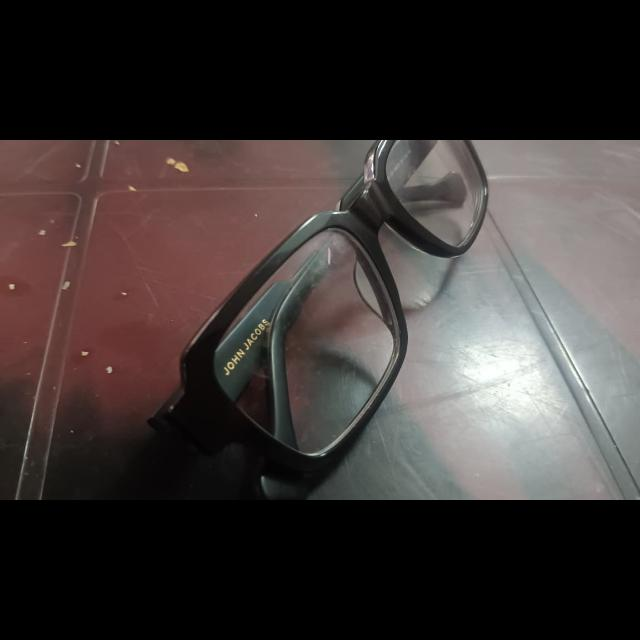glasses: (146, 140, 484, 488)
